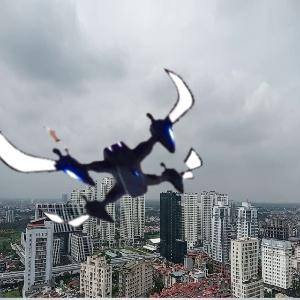drone: (18, 52, 221, 255)
